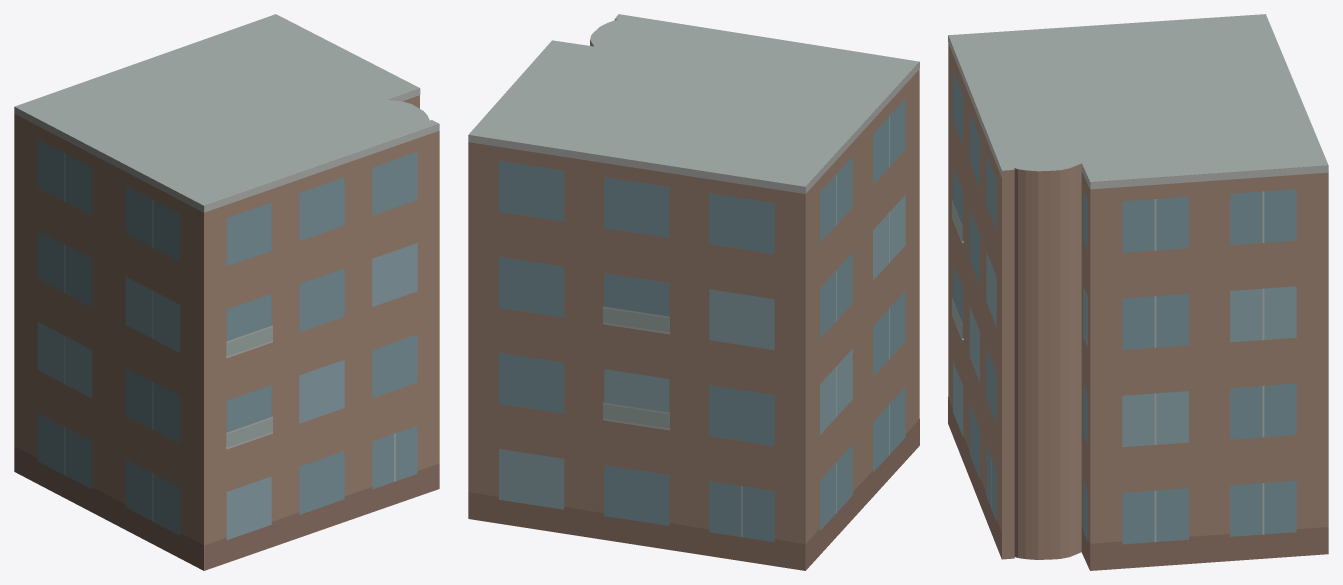
File: survey-upis-32705434.glb
The picture shows the model from 3 angles, left to right: view 1: azimuth 30°, elevation 25°; view 2: azimuth 150°, elevation 25°; view 3: azimuth 270°, elevation 25°; orthographic projection. The views are drawn at different scales.
Visible parts, largest first — view 1: survey-upis-32705434.tmp; view 2: survey-upis-32705434.tmp; view 3: survey-upis-32705434.tmp.
Part boxes in pixels (<box>): survey-upis-32705434.tmp: <box>14,14,439,570</box>; survey-upis-32705434.tmp: <box>468,14,919,570</box>; survey-upis-32705434.tmp: <box>948,14,1328,570</box>.
Bounding box in the file's own units: 11.97 × 12.9 × 11.45.
